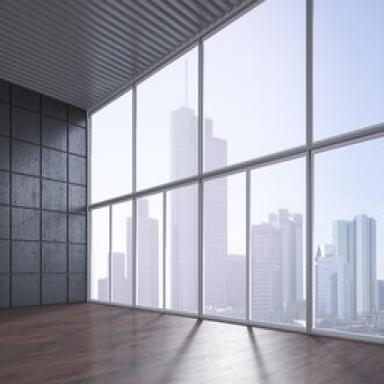glass_panel: (204, 0, 306, 170), (312, 138, 384, 336), (313, 0, 384, 139), (251, 158, 306, 327), (137, 48, 198, 189), (203, 173, 246, 319), (90, 91, 132, 203), (166, 184, 198, 313), (137, 194, 163, 308), (112, 202, 132, 304), (91, 207, 110, 302)
